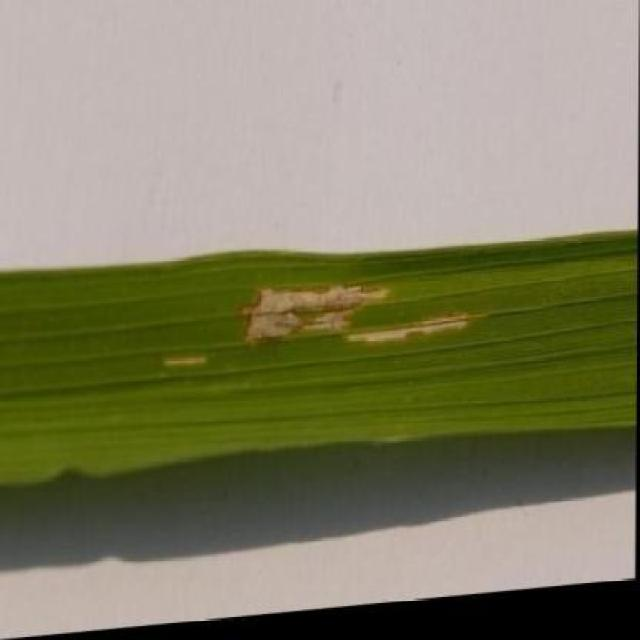Brown_Spot: (0, 220, 638, 508), (149, 264, 491, 408)
